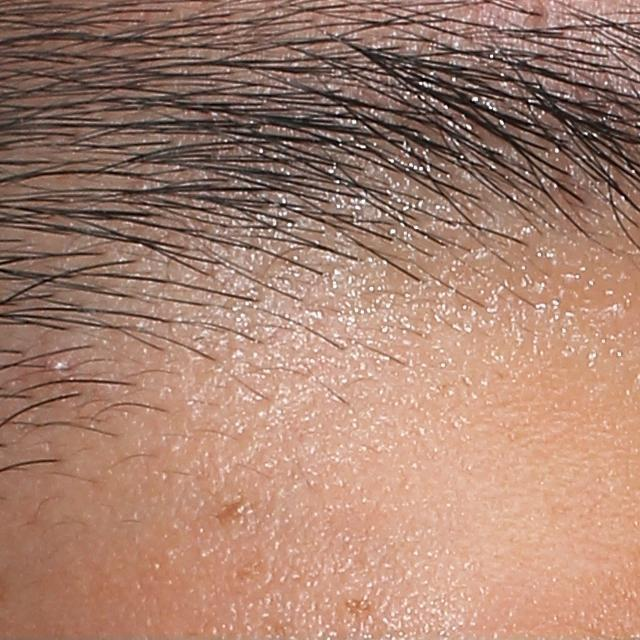melasma: (223, 552, 273, 595), (212, 493, 256, 530), (342, 596, 368, 621)
